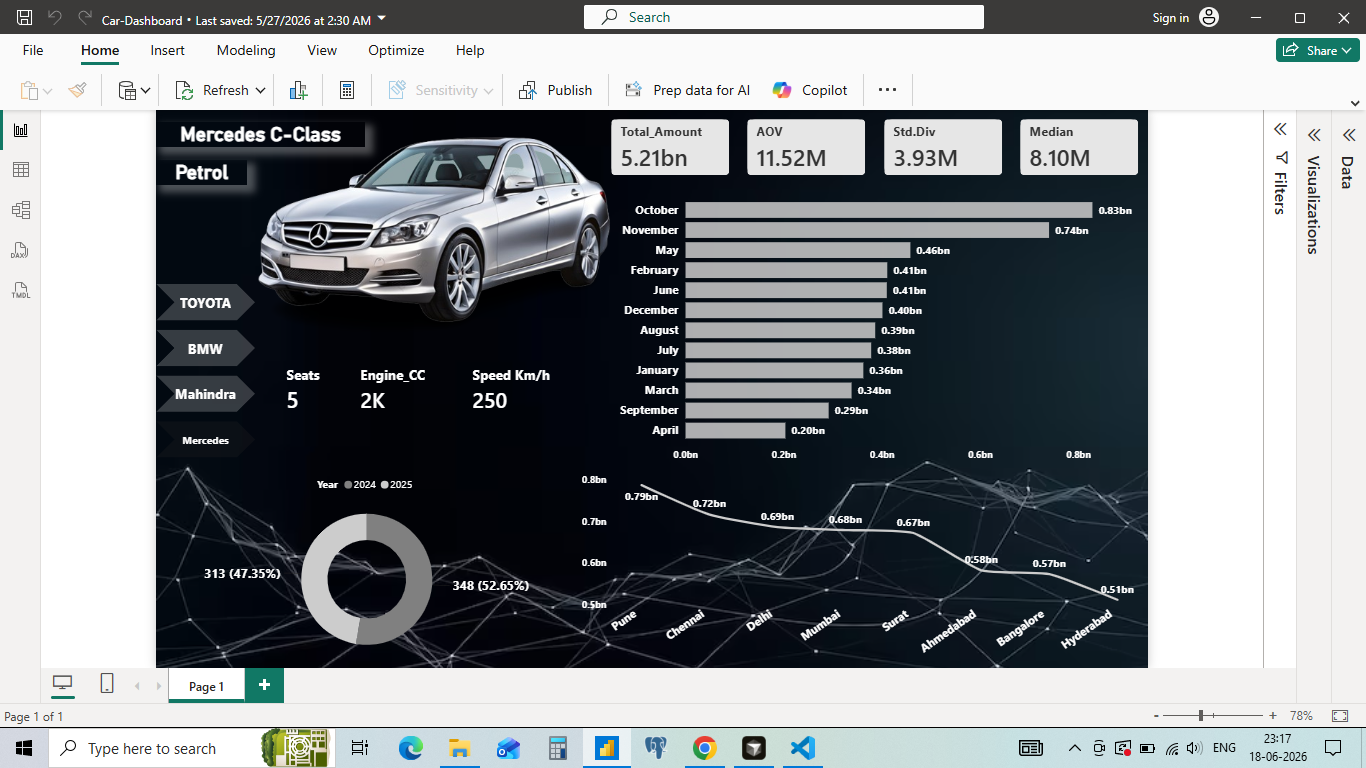

Layout of this report page (visuals, bound fields, positions):
{"tool":"powerbi","page":{"name":"Page 1","canvas":[1280,720],"ordinal":0},"visuals":[{"type":"cardVisual","title":" Total Amt Card","fields":{"Data":["Sum(car_sales_dashboard_dataset.Total_Amount_INR)"]},"box":[576,0,176,96],"z":0,"group":"g2"},{"type":"textbox","title":"Mercedes C-Class","box":[0,16,270.2,32],"z":0,"group":"g5"},{"type":"clusteredBarChart","title":" Total Month column chrt","fields":{"Category":["car_sales_dashboard_dataset.Month"],"Y":["Sum(car_sales_dashboard_dataset.Total_Amount_INR)"]},"box":[592,96,688,368],"z":0,"group":"g3"},{"type":"group","id":"g1","title":"S/E/S","box":[144,320,400,80],"z":0,"group":"g4"},{"type":"cardVisual","title":"SeatsCard","fields":{"Data":["Min(car_sales_dashboard_dataset.Seats)"]},"box":[144,320,96,80],"z":0,"group":"g1"},{"type":"group","id":"g2","title":"Kpi cards","box":[576,0,704,96],"z":1000,"group":"g4"},{"type":"cardVisual","title":"aov Card","fields":{"Data":["Avg(car_sales_dashboard_dataset.Total_Amount_INR)"]},"box":[752,0,176,96],"z":1000,"group":"g2"},{"type":"textbox","title":"Petrol","box":[0,64,118.2,32],"z":1000,"group":"g5"},{"type":"cardVisual","title":"Engine cc Card","fields":{"Data":["Min(car_sales_dashboard_dataset.Engine_CC)"]},"box":[240,320,144,80],"z":1000,"group":"g1"},{"type":"donutChart","title":"Year vizual","fields":{"Category":["car_sales_dashboard_dataset.Year"],"Y":["Sum(car_sales_dashboard_dataset.Quantity)"]},"box":[0,464,544,256],"z":1000,"group":"g3"},{"type":"image","title":"Image mercedes","box":[128,0,464,320],"z":2000,"group":"g5"},{"type":"cardVisual","title":"Std.div Card","fields":{"Data":["Sum(car_sales_dashboard_dataset.Total_Amount_INR)"]},"box":[928,0,176,96],"z":2000,"group":"g2"},{"type":"group","id":"g3","title":"Charts vizuals","box":[0,96,1280,624],"z":2000,"group":"g4"},{"type":"cardVisual","title":"Speed km Card","fields":{"Data":["Min(car_sales_dashboard_dataset.Top_Speed_KMH)"]},"box":[384,320,160,80],"z":2000,"group":"g1"},{"type":"lineChart","title":" Total_Amount City line chrt","fields":{"Category":["car_sales_dashboard_dataset.City"],"Y":["Sum(car_sales_dashboard_dataset.Total_Amount_INR)"]},"box":[544,464,736,256],"z":2000,"group":"g3"},{"type":"cardVisual","title":"Median Card","fields":{"Data":["Median(car_sales_dashboard_dataset.Total_Amount_INR)"]},"box":[1104,0,176,96],"z":3000,"group":"g2"},{"type":"group","id":"g4","title":"Marcedes -Kpi & vizual","box":[0,0,1280,720],"z":6000},{"type":"group","id":"g5","title":"Mercedes image","box":[0,0,592,320],"z":7000},{"type":"bookmarkNavigator","box":[0,224,128,224],"z":8000}]}

Visuals, with their boxes on the page's 1280x720 design canvas (x1, y1, x2, y2). These are canvas units, not pixel positions in the 1366x768 screenshot, which may show the page scaled, cropped or inside an application window:
" Total Amt Card" cardVisual: (x1=576, y1=0, x2=752, y2=96)
"Mercedes C-Class" textbox: (x1=0, y1=16, x2=270, y2=48)
" Total Month column chrt" clusteredBarChart: (x1=592, y1=96, x2=1280, y2=464)
"S/E/S" group: (x1=144, y1=320, x2=544, y2=400)
"SeatsCard" cardVisual: (x1=144, y1=320, x2=240, y2=400)
"Kpi cards" group: (x1=576, y1=0, x2=1280, y2=96)
"aov Card" cardVisual: (x1=752, y1=0, x2=928, y2=96)
"Petrol" textbox: (x1=0, y1=64, x2=118, y2=96)
"Engine cc Card" cardVisual: (x1=240, y1=320, x2=384, y2=400)
"Year vizual" donutChart: (x1=0, y1=464, x2=544, y2=720)
"Image mercedes" image: (x1=128, y1=0, x2=592, y2=320)
"Std.div Card" cardVisual: (x1=928, y1=0, x2=1104, y2=96)
"Charts vizuals" group: (x1=0, y1=96, x2=1280, y2=720)
"Speed km Card" cardVisual: (x1=384, y1=320, x2=544, y2=400)
" Total_Amount City line chrt" lineChart: (x1=544, y1=464, x2=1280, y2=720)
"Median Card" cardVisual: (x1=1104, y1=0, x2=1280, y2=96)
"Marcedes -Kpi & vizual" group: (x1=0, y1=0, x2=1280, y2=720)
"Mercedes image" group: (x1=0, y1=0, x2=592, y2=320)
bookmarkNavigator: (x1=0, y1=224, x2=128, y2=448)
